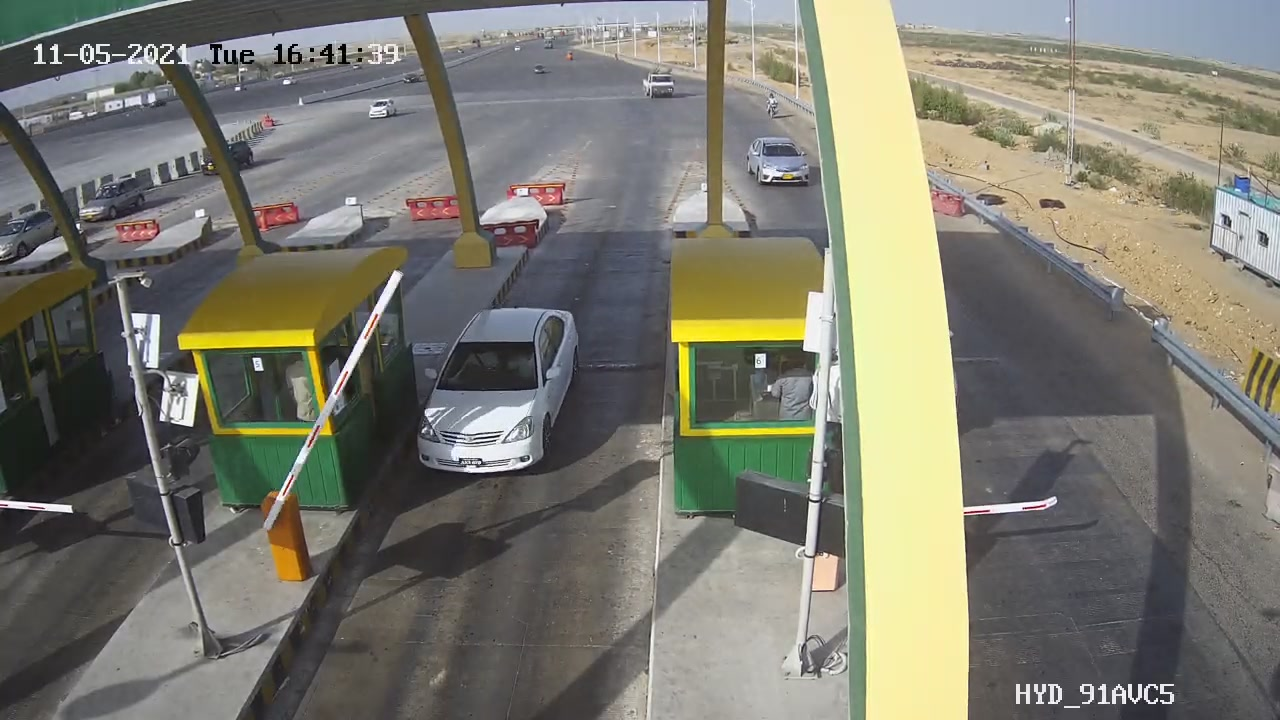F1: (392, 286, 605, 493)
